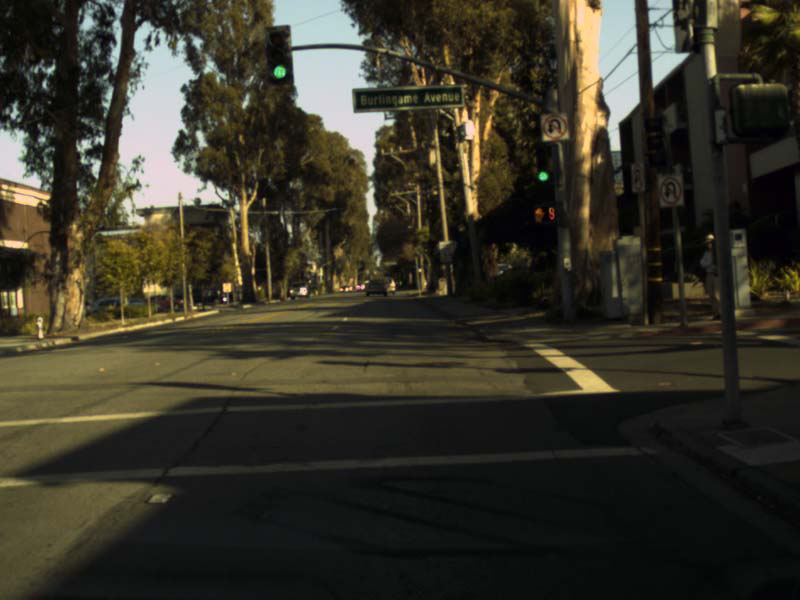Green: (262, 25, 293, 84), (534, 146, 552, 184)
